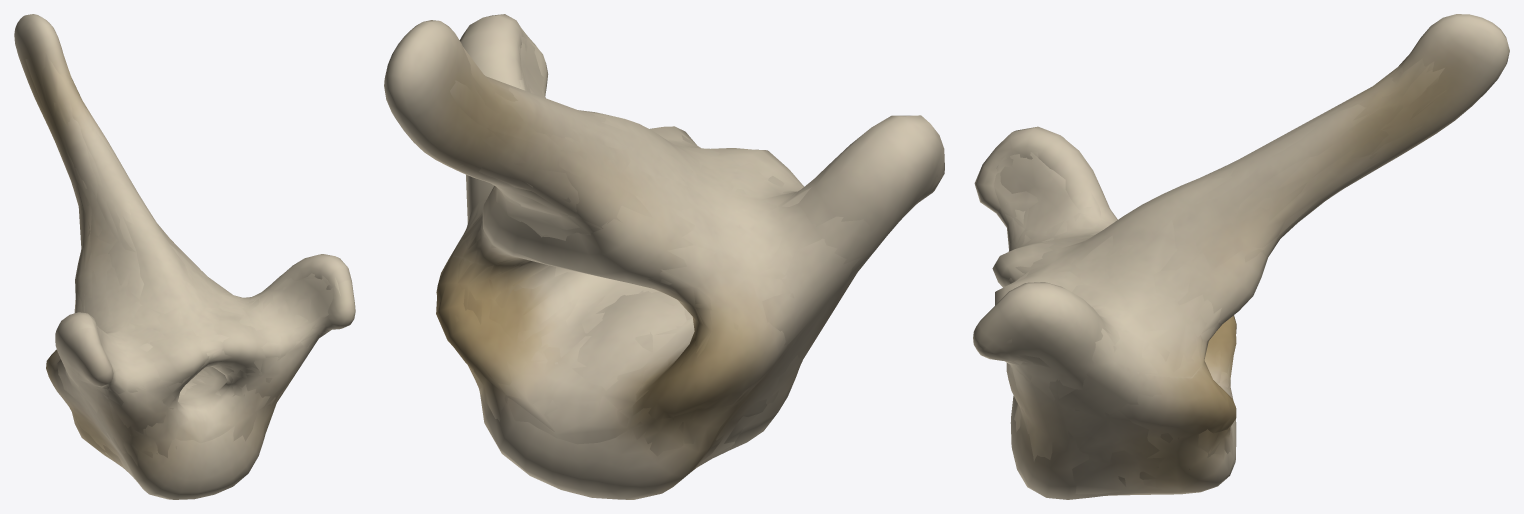
File: vertebrae thoracicae 09.fbx
The picture shows the model from 3 angles, left to right: view 1: azimuth 30°, elevation 25°; view 2: azimuth 150°, elevation 25°; view 3: azimuth 270°, elevation 25°; orthographic projection. The views are drawn at different scales.
Parts seen in each view (by area): view 1: vertebrae thoracicae 09 high, vertebrae thoracicae 09 low, vertebrae thoracicae 09; view 2: vertebrae thoracicae 09 high, vertebrae thoracicae 09, vertebrae thoracicae 09 low; view 3: vertebrae thoracicae 09 high, vertebrae thoracicae 09 low, vertebrae thoracicae 09.
Part boxes in pixels (x1,y1,x2,y2): vertebrae thoracicae 09 high: (14,14,355,499); vertebrae thoracicae 09 low: (42,53,338,478); vertebrae thoracicae 09: (25,55,340,480); vertebrae thoracicae 09 high: (384,14,944,499); vertebrae thoracicae 09: (450,32,937,462); vertebrae thoracicae 09 low: (449,26,861,462); vertebrae thoracicae 09 high: (973,14,1509,499); vertebrae thoracicae 09 low: (996,55,1444,494); vertebrae thoracicae 09: (994,58,1453,486).
Size of the model in its own units: 8.15 by 9.93 by 10.38.
1 material, 1 textured.
